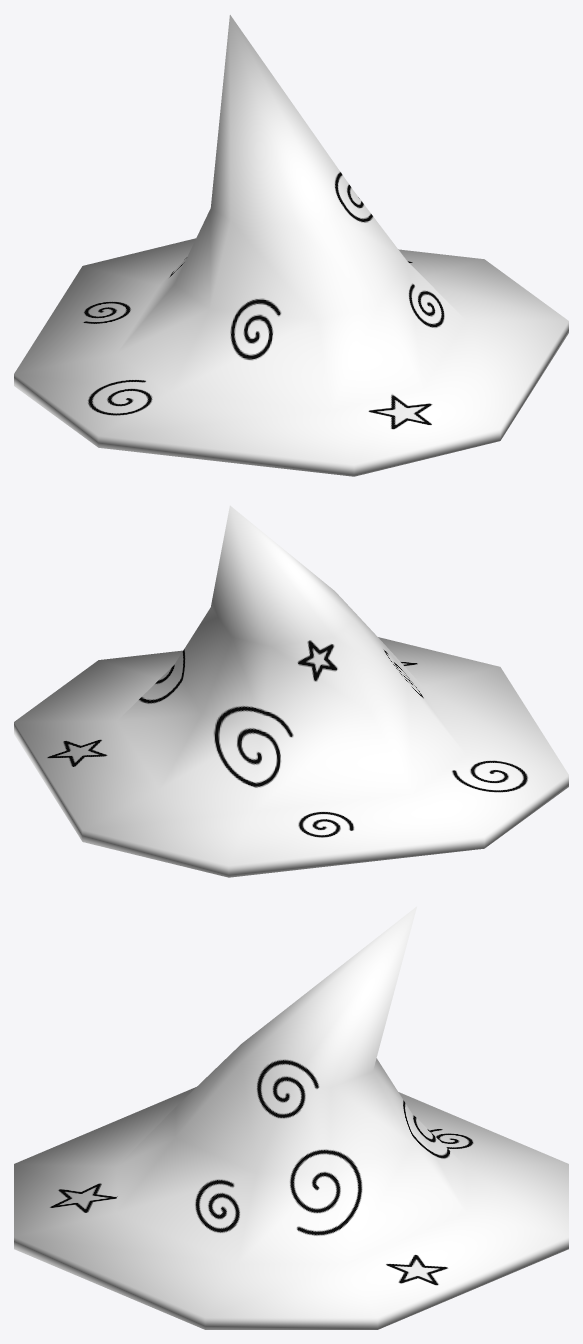
Rendered from wizardhat.fbx.
The picture shows the model from 3 angles, top to bottom: view 1: azimuth 30°, elevation 25°; view 2: azimuth 150°, elevation 25°; view 3: azimuth 270°, elevation 25°; orthographic projection. The views are drawn at different scales.
Visible parts, largest first — view 1: Cube.001; view 2: Cube.001; view 3: Cube.001.
Boxes of the visible parts, x1,y1,x2,y2 form: Cube.001: [14, 15, 568, 476]; Cube.001: [14, 505, 568, 877]; Cube.001: [14, 906, 568, 1329].
Size of the model in its own units: 131 by 79.85 by 131.
